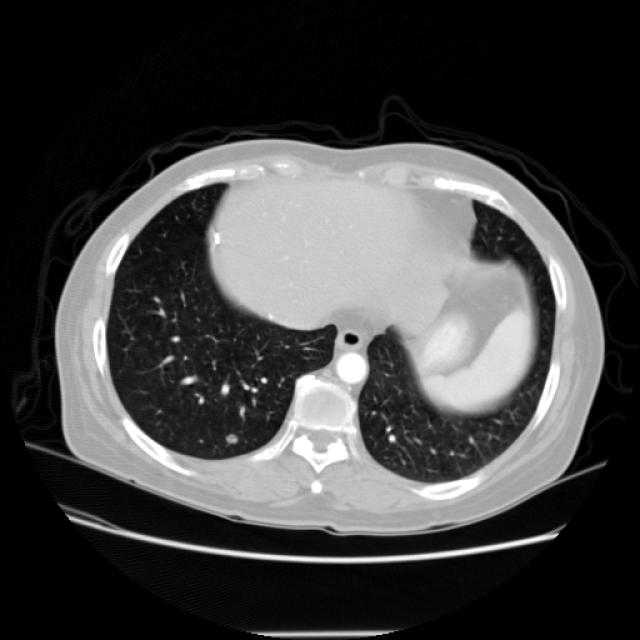nodule: (218, 425, 244, 450)
